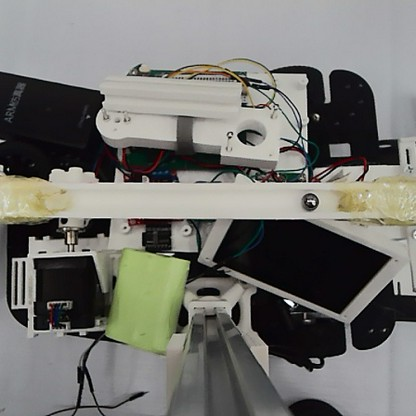ironball: (300, 190, 319, 211)
